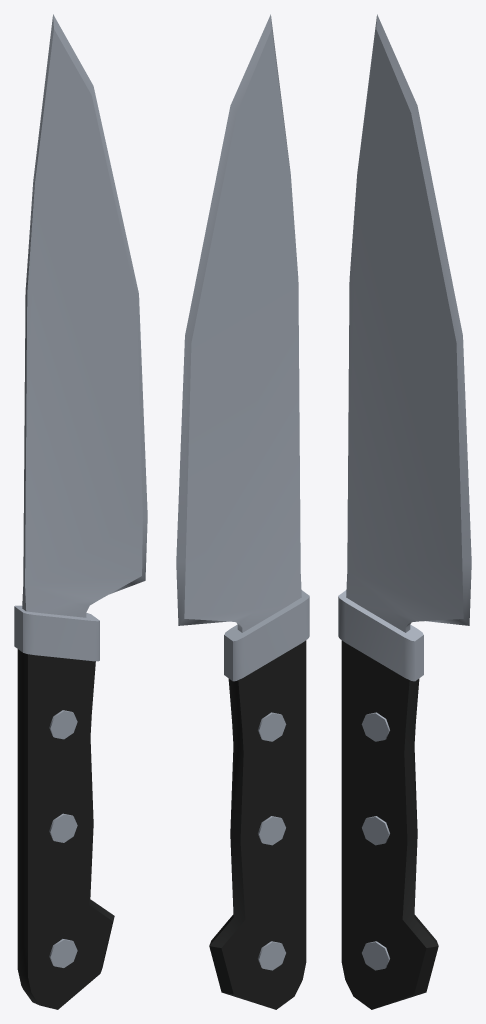
File: cooking_assets_chef_knife.glb
3 renders of one model, left to right at view 1: azimuth 30°, elevation 25°; view 2: azimuth 210°, elevation 25°; view 3: azimuth 330°, elevation 25°, orthographic.
Visible parts, largest first — view 1: knife_chef_knife_Cube.005; view 2: knife_chef_knife_Cube.005; view 3: knife_chef_knife_Cube.005.
Part boxes in pixels (left/top/right/bottom): knife_chef_knife_Cube.005: left=14, top=14, right=147, bottom=1009; knife_chef_knife_Cube.005: left=176, top=14, right=309, bottom=1009; knife_chef_knife_Cube.005: left=338, top=14, right=471, bottom=1009.
Bounding box in the file's own units: 1.03 × 7.57 × 0.1754.
Materials: 1 (1 with a texture image).
